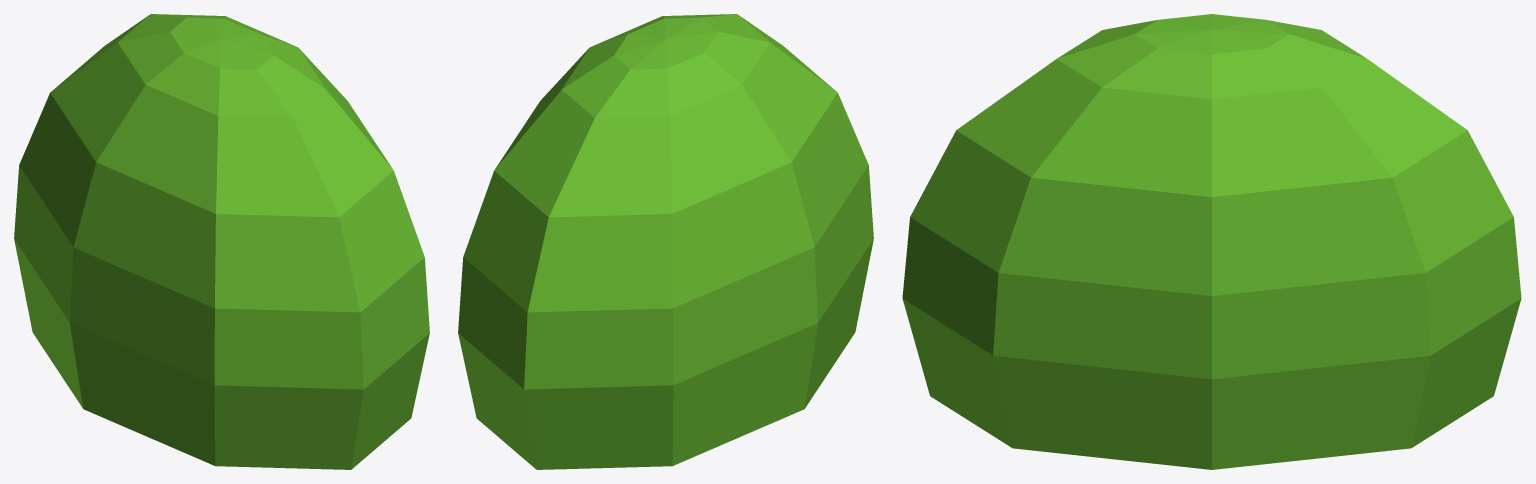
Rendered from bush.obj.
The picture shows the model from 3 angles, left to right: view 1: azimuth 30°, elevation 25°; view 2: azimuth 150°, elevation 25°; view 3: azimuth 270°, elevation 25°; orthographic projection. The views are drawn at different scales.
Parts seen in each view (by area): view 1: 円_円.004; view 2: 円_円.004; view 3: 円_円.004.
Part boxes in pixels (box(x1,y1,x2,y2)): 円_円.004: box(14, 14, 429, 469); 円_円.004: box(458, 14, 873, 469); 円_円.004: box(902, 14, 1521, 469).
Size of the model in its own units: 1.67 by 1.77 by 2.7.
Materials: 1 (1 with a texture image).
